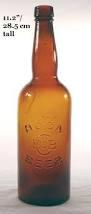Glass bottle: (16, 5, 80, 210)
